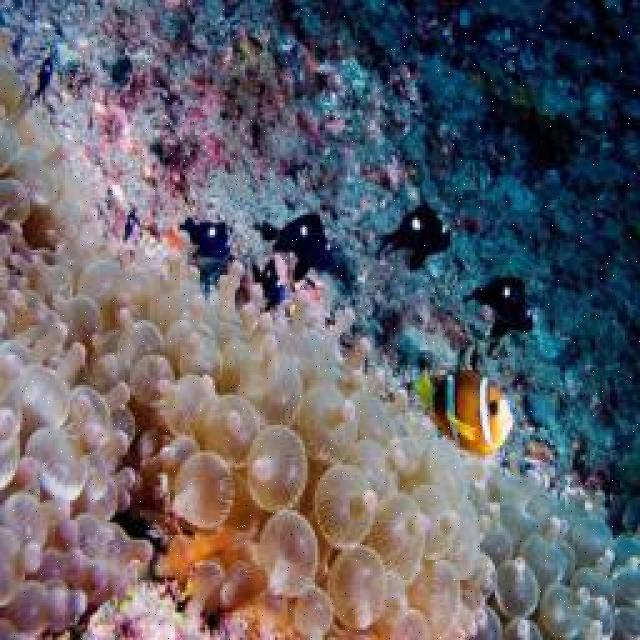fish: (415, 371, 516, 456), (371, 200, 453, 274), (459, 277, 537, 339), (272, 212, 335, 284), (171, 213, 232, 261), (249, 260, 288, 312)
reefs: (0, 42, 638, 638)
